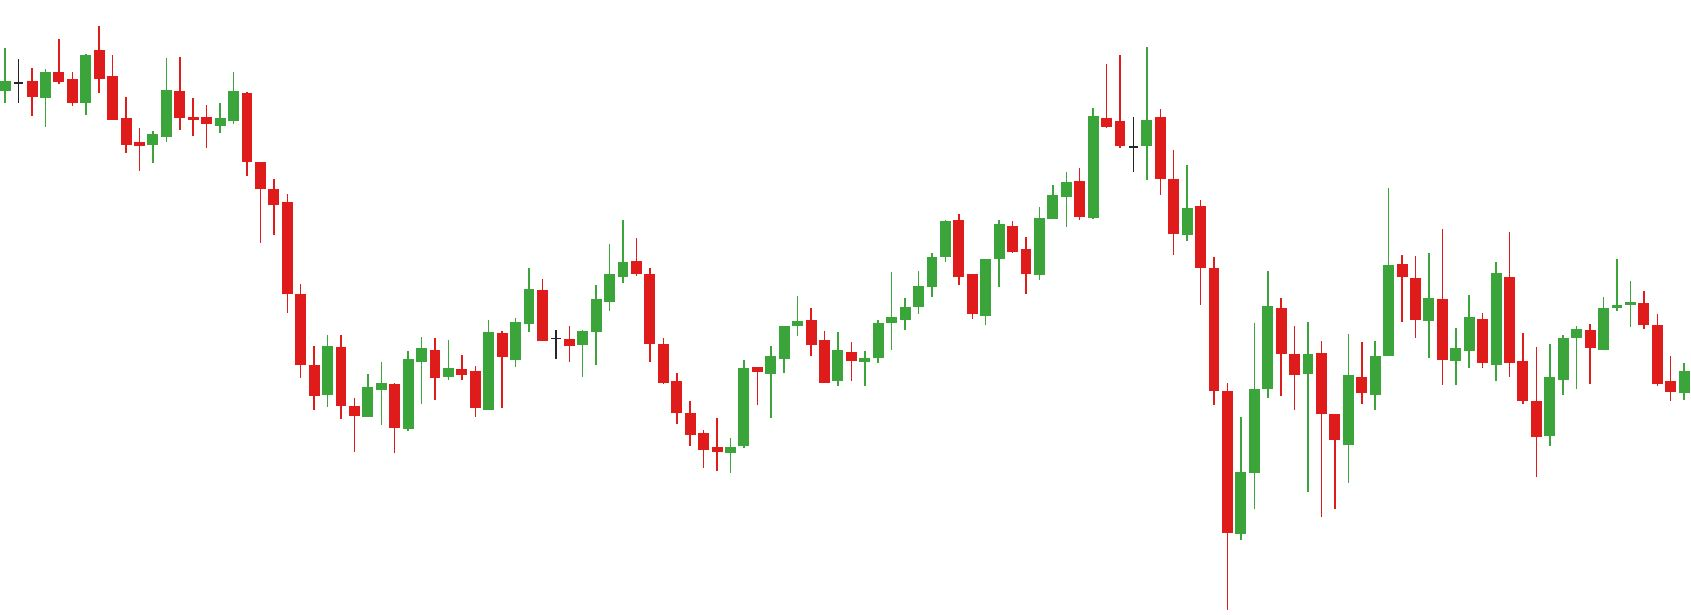buy: (387, 322, 739, 471)
sell: (1261, 187, 1407, 363)
